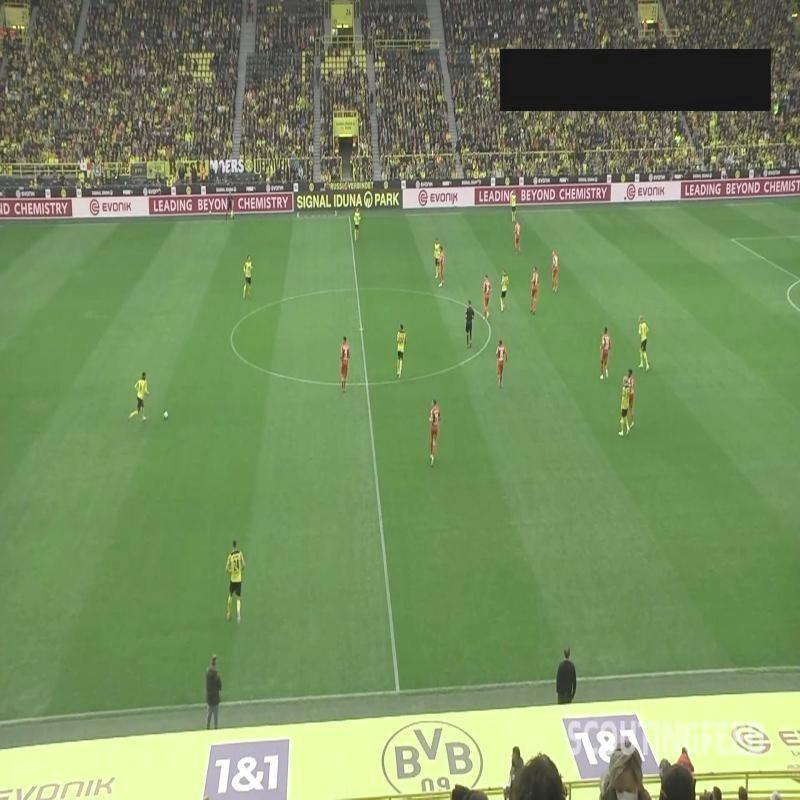13: (342, 210, 356, 224)
14: (350, 281, 364, 295)
15: (360, 376, 374, 390)
16: (390, 680, 408, 702)
9: (726, 232, 740, 245)
c: (222, 332, 239, 350), (484, 316, 498, 334)
